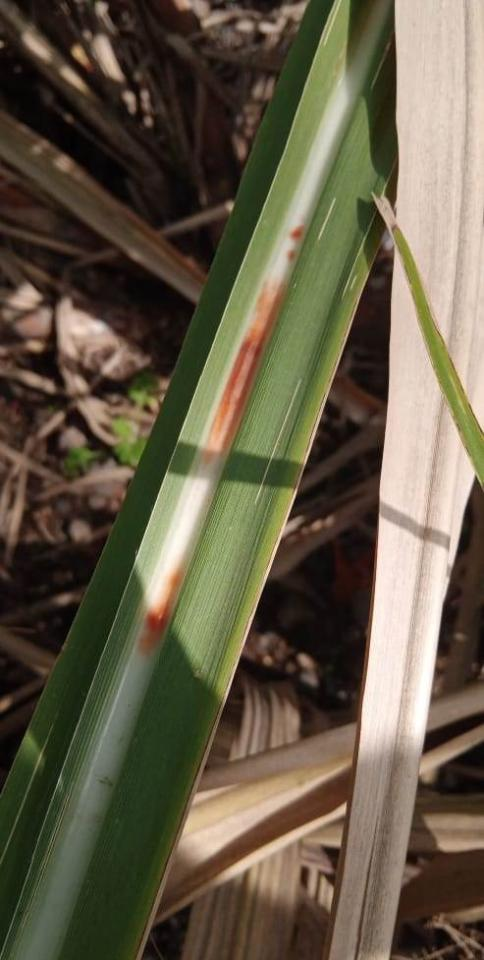RedRot: (195, 281, 288, 469), (131, 567, 187, 661), (285, 224, 309, 244), (287, 250, 297, 266)
